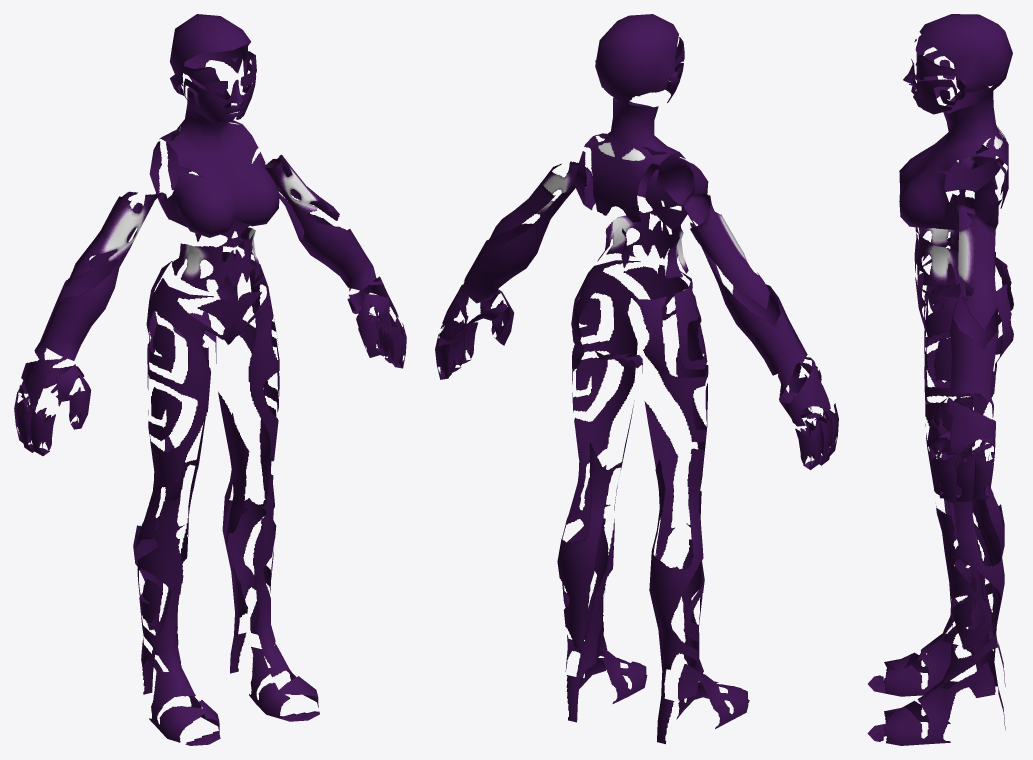
File: hum_f_d486e430.glb
3 renders of one model, left to right at view 1: azimuth 30°, elevation 25°; view 2: azimuth 150°, elevation 25°; view 3: azimuth 270°, elevation 25°, orthographic. The views are drawn at different scales.
Bounding box in the file's own units: 1.42 × 2.47 × 0.4889.
1 material, 1 textured.
